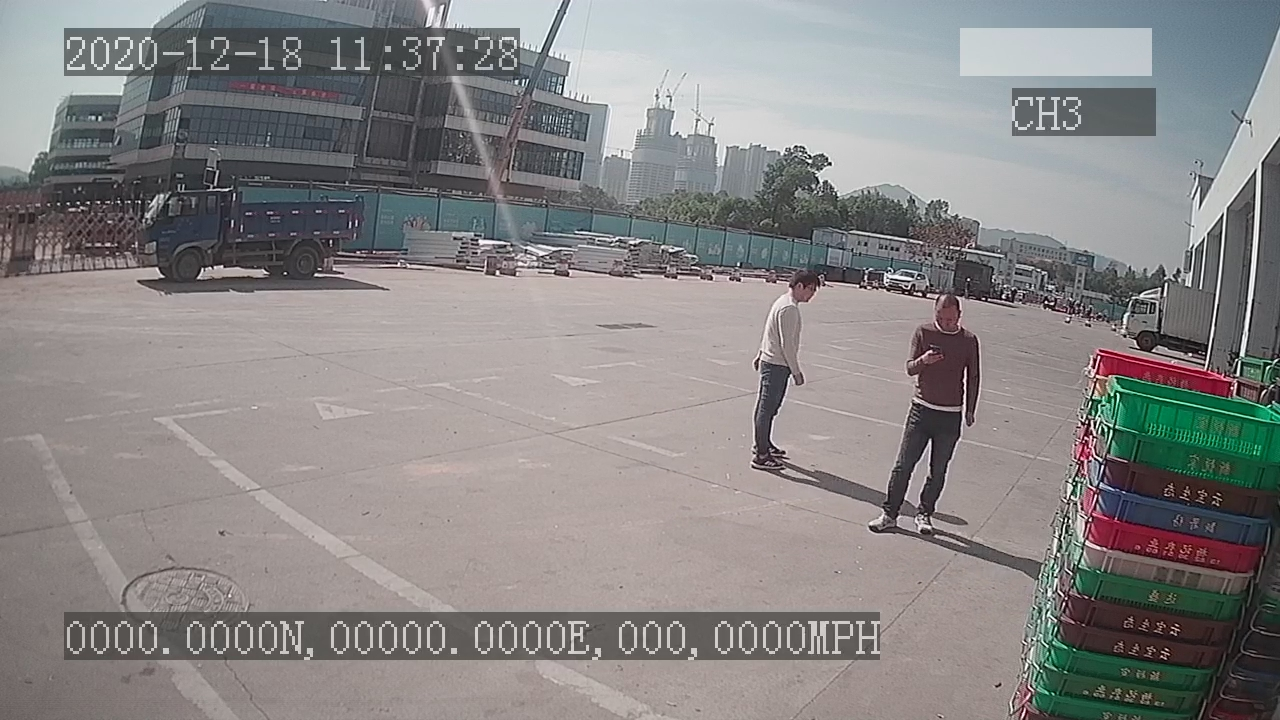person: (869, 289, 986, 542), (745, 257, 822, 473)
